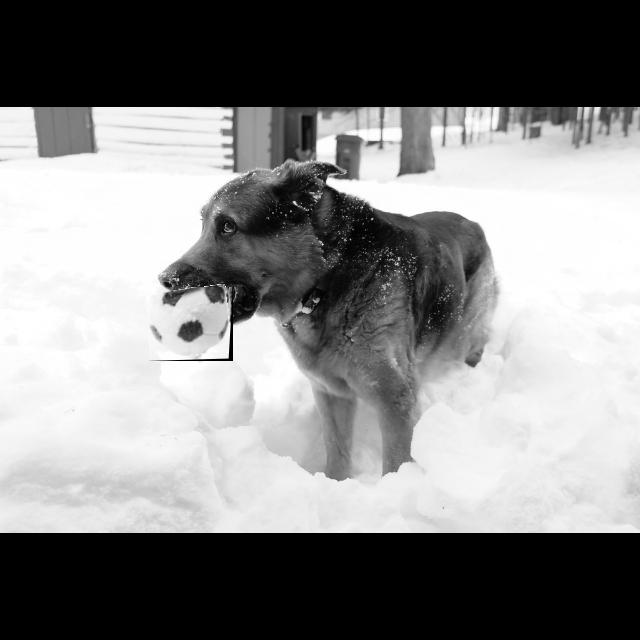Football: (149, 287, 233, 361)
